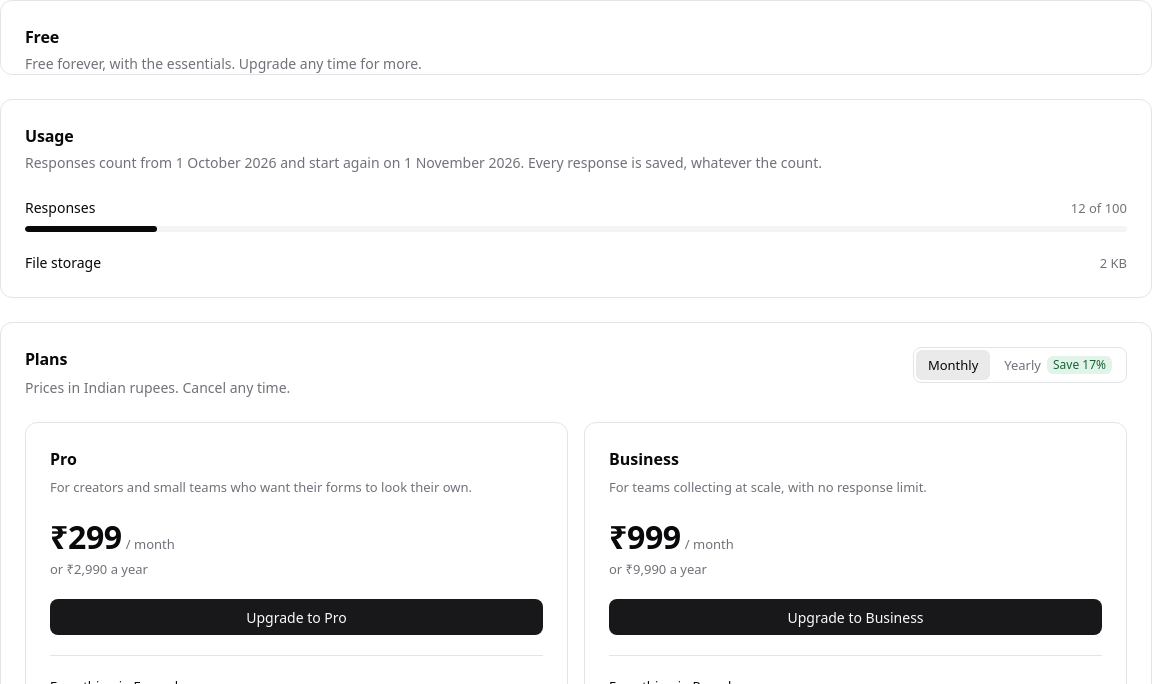
Test: BillingPage › buys a plan through Razorpay Checkout, checked on the server
The image size is (1152, 684).
Click the radio button labelled "Yearly Save 17%" at [1058, 365], box [992,350,1124,380]
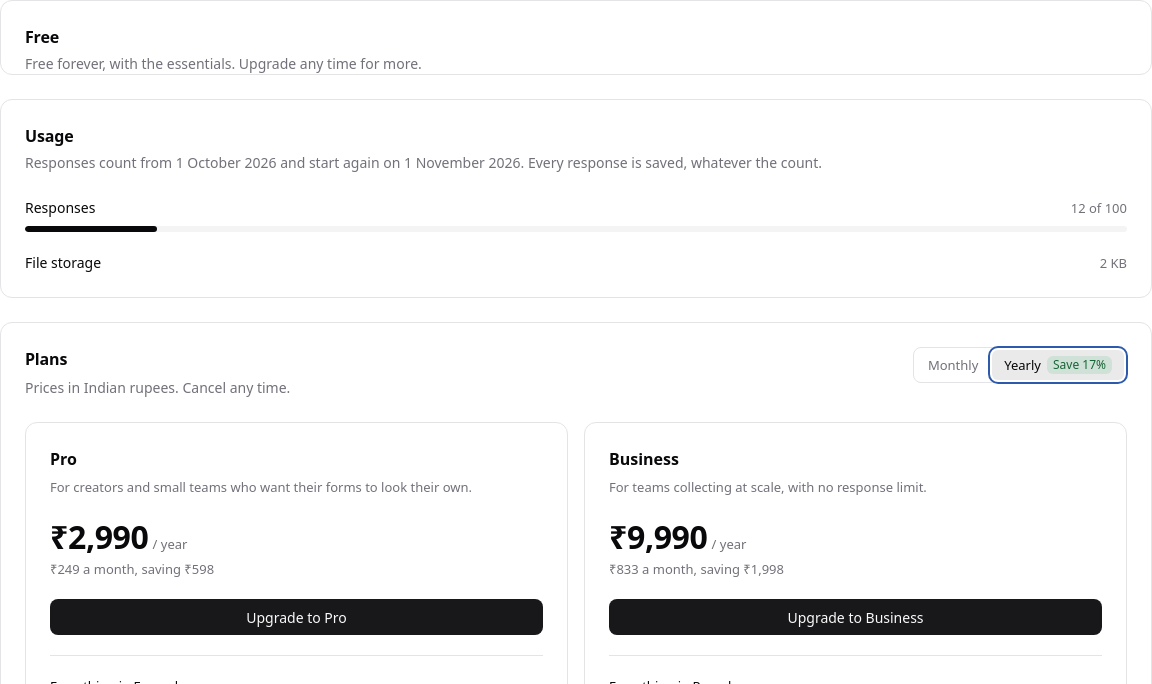
Click the button "Upgrade to Pro" at [296, 617], box [50,599,543,635]
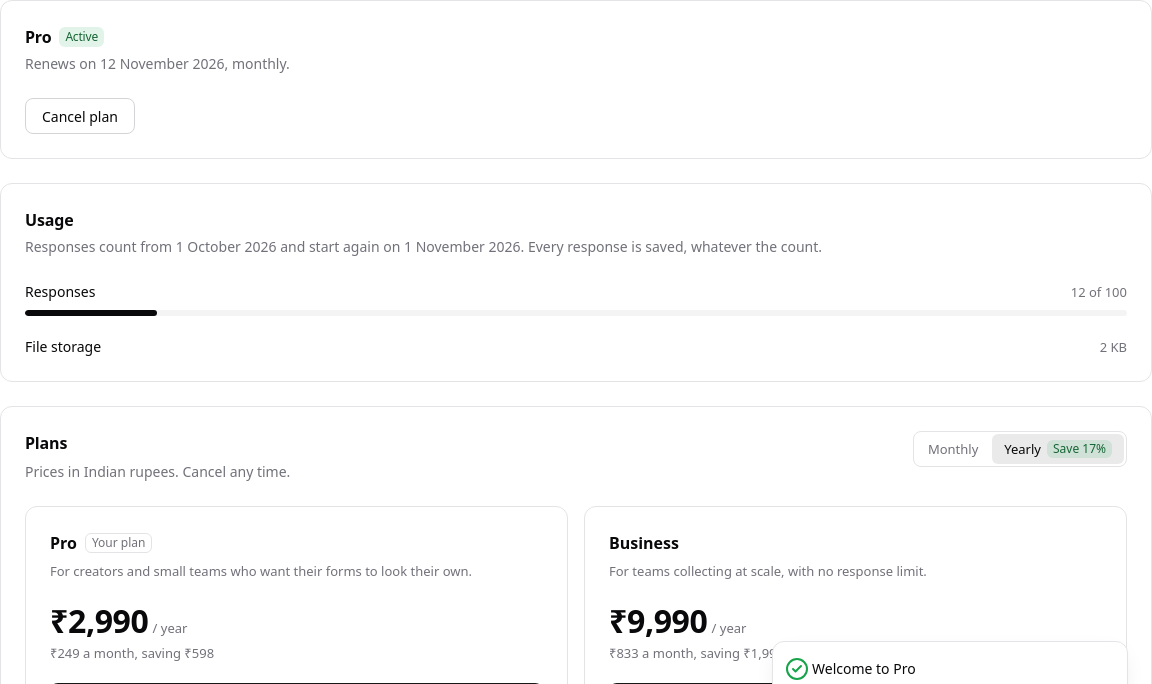
Expected: the text "Welcome to Pro" is shown, [812,658,916,679]
